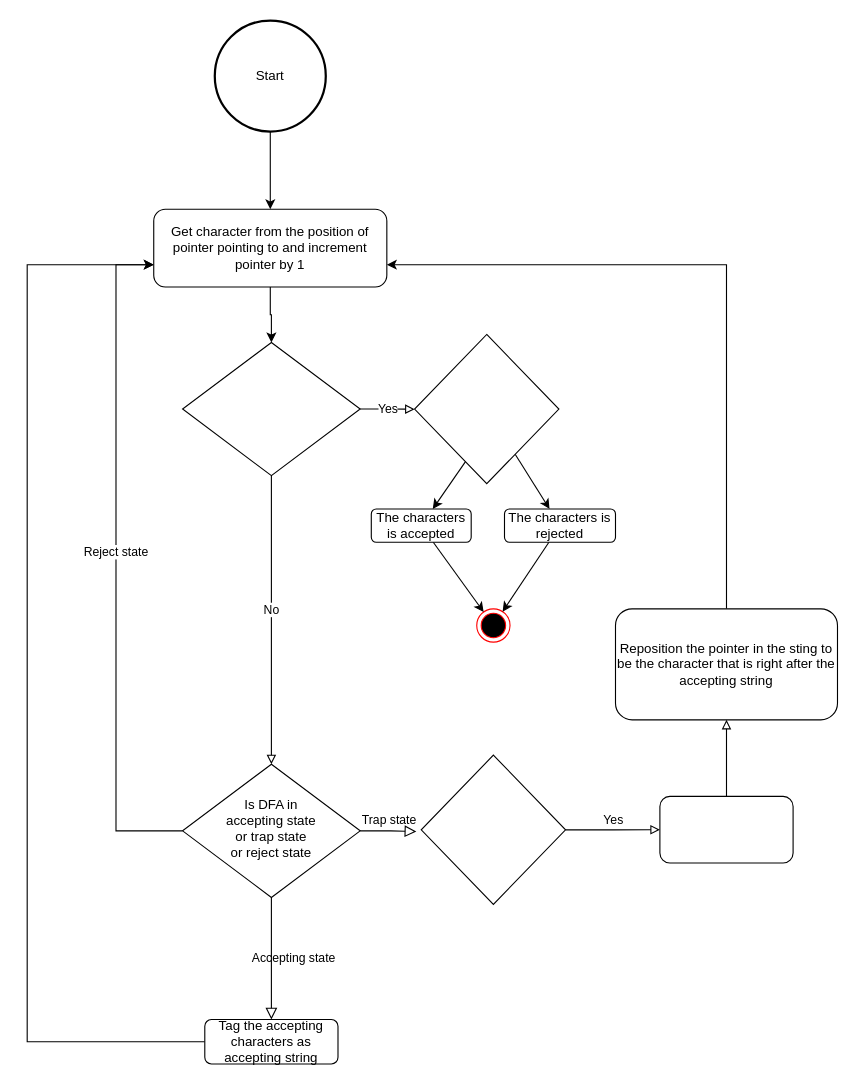
Some shapes in this 857 by 1084 pixel diagram are drawn without their labels. Each missing label, with the box of its shape:
Is end of string?: (181, 341, 360, 476)
Is seperating character exist in right after accepting characters?: (420, 754, 566, 904)
Is seperating character exist in right after accepting string?: (413, 333, 559, 484)
The characters are accepted: (659, 795, 793, 863)
